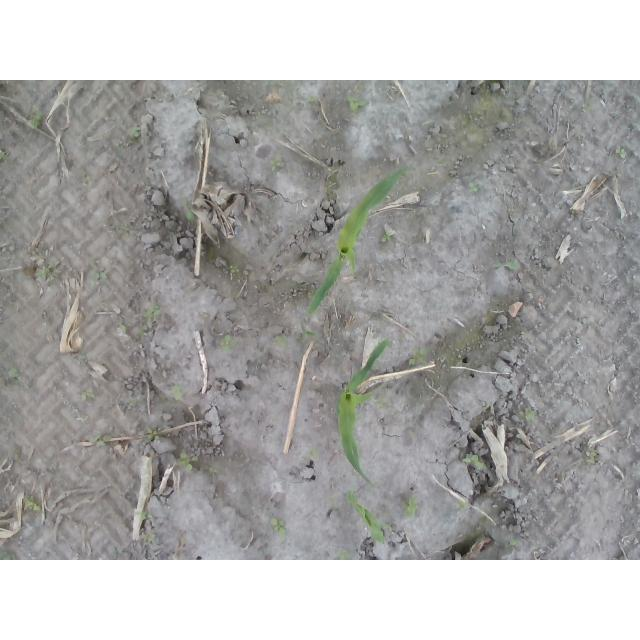Maize: (308, 169, 405, 315), (337, 340, 392, 485), (347, 491, 391, 546)
Weeds: (175, 448, 201, 470), (346, 94, 371, 114), (463, 451, 486, 470), (34, 263, 58, 281), (409, 348, 432, 366), (31, 104, 48, 128), (182, 200, 198, 225), (272, 517, 289, 540), (90, 270, 111, 288), (495, 259, 519, 274), (609, 145, 631, 161), (404, 495, 417, 522), (143, 303, 162, 321), (24, 496, 43, 513), (519, 407, 538, 424), (220, 334, 237, 352), (1, 544, 20, 560), (145, 426, 162, 443), (127, 127, 141, 146), (271, 335, 289, 349), (80, 387, 97, 401), (504, 537, 520, 551), (336, 548, 353, 561), (95, 433, 108, 449), (584, 448, 597, 464), (80, 168, 92, 185), (5, 367, 18, 382), (140, 531, 156, 543), (31, 247, 50, 257), (136, 511, 153, 522), (308, 447, 321, 461), (117, 223, 129, 238), (173, 384, 183, 401), (270, 157, 282, 171), (112, 545, 125, 557), (327, 175, 338, 189), (454, 500, 465, 513), (119, 321, 129, 335), (227, 263, 241, 273), (383, 227, 393, 241), (468, 182, 480, 193), (207, 464, 217, 476), (334, 496, 340, 513), (307, 95, 317, 105), (303, 330, 317, 337), (375, 400, 385, 409), (0, 151, 8, 161)
